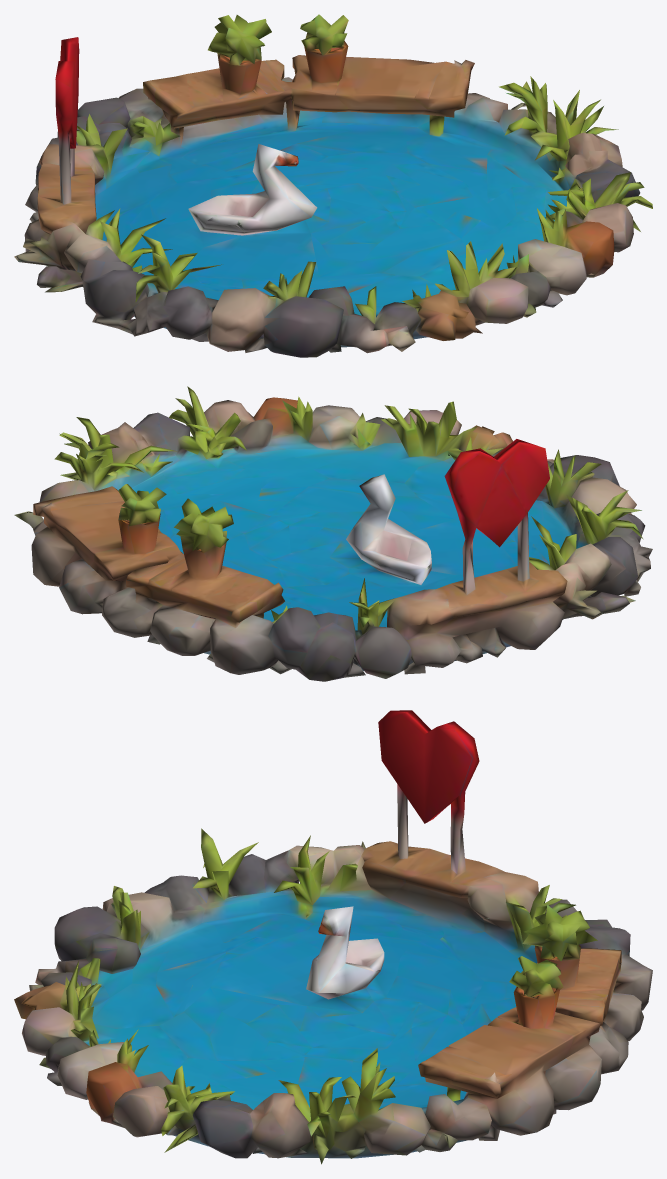
File: lake.glb
3 renders of one model, top to bottom at view 1: azimuth 30°, elevation 25°; view 2: azimuth 150°, elevation 25°; view 3: azimuth 270°, elevation 25°, orthographic. The views are drawn at different scales.
Parts seen in each view (by area): view 1: tripo_node_65a59796-dd05-4e2a-83f1-b399d66f252f; view 2: tripo_node_65a59796-dd05-4e2a-83f1-b399d66f252f; view 3: tripo_node_65a59796-dd05-4e2a-83f1-b399d66f252f.
Boxes of the visible parts, left/top/right/bottom form: tripo_node_65a59796-dd05-4e2a-83f1-b399d66f252f: left=14, top=14, right=652, bottom=357; tripo_node_65a59796-dd05-4e2a-83f1-b399d66f252f: left=14, top=386, right=652, bottom=681; tripo_node_65a59796-dd05-4e2a-83f1-b399d66f252f: left=14, top=710, right=652, bottom=1164.
Size of the model in its own units: 0.9823 by 0.3466 by 0.901.
Materials: 1 (1 with a texture image).
